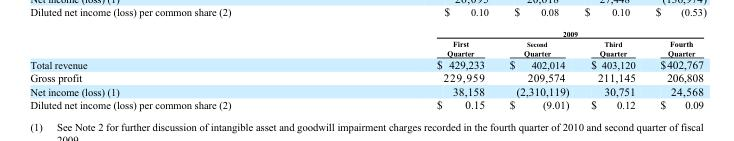table: (29, 29, 702, 110)
table column: (29, 29, 333, 110), (333, 29, 496, 110), (496, 29, 579, 110), (579, 29, 647, 110), (647, 29, 702, 110)
table column header: (29, 29, 702, 57)
table row: (29, 38, 702, 57), (29, 70, 702, 84), (29, 57, 702, 70), (29, 84, 702, 97), (29, 97, 702, 110), (29, 29, 702, 38)
table spanning cell: (333, 29, 702, 38)
